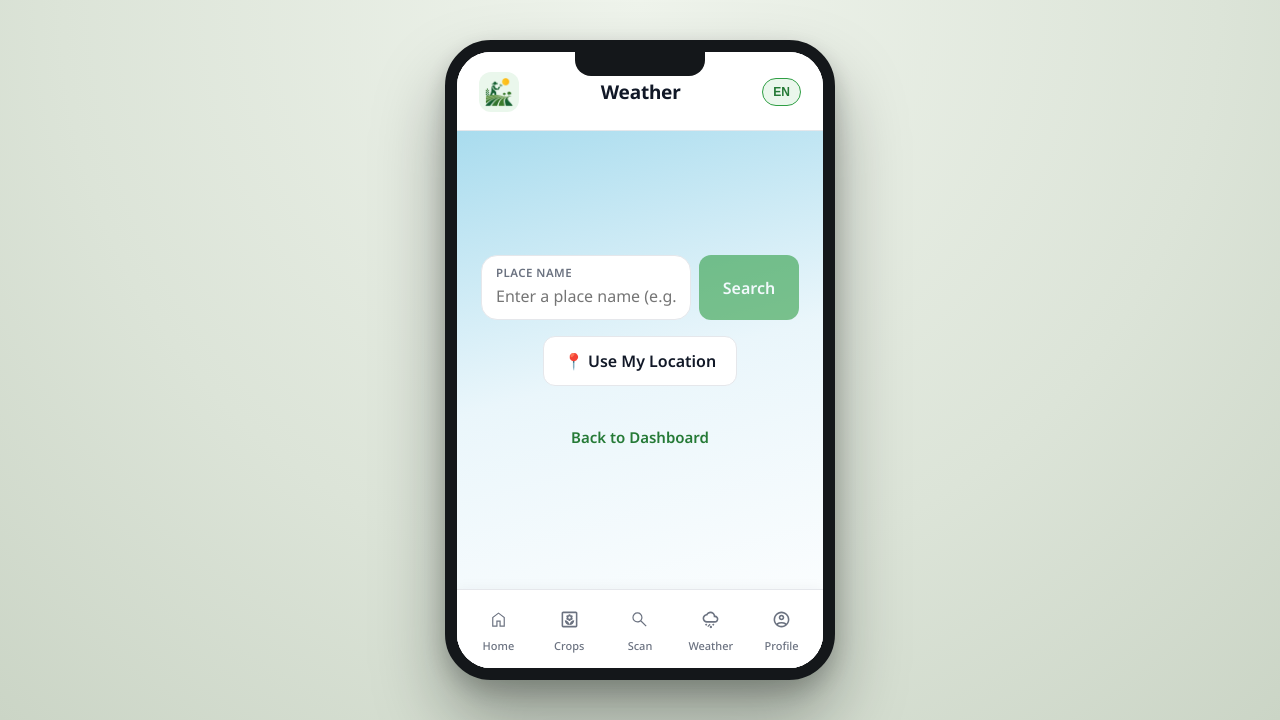
Test: WeatherPage › looks up weather for a manually typed place name
Type "Mangaluru" into the field with placeholder "Enter a place name (e.g. Mangaluru)".
click(586, 296); type("Mangaluru")  # box [496,283,676,309]
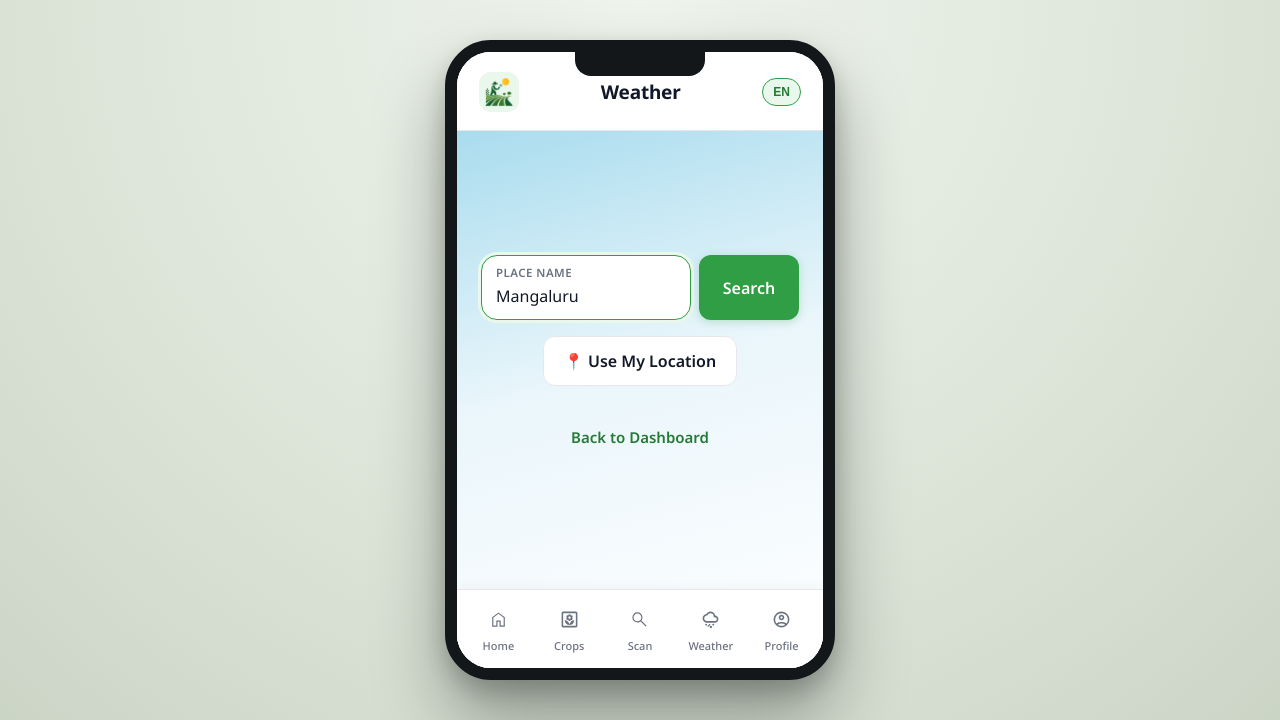
Click the button "Search".
click(749, 288)  # box [699,255,799,320]
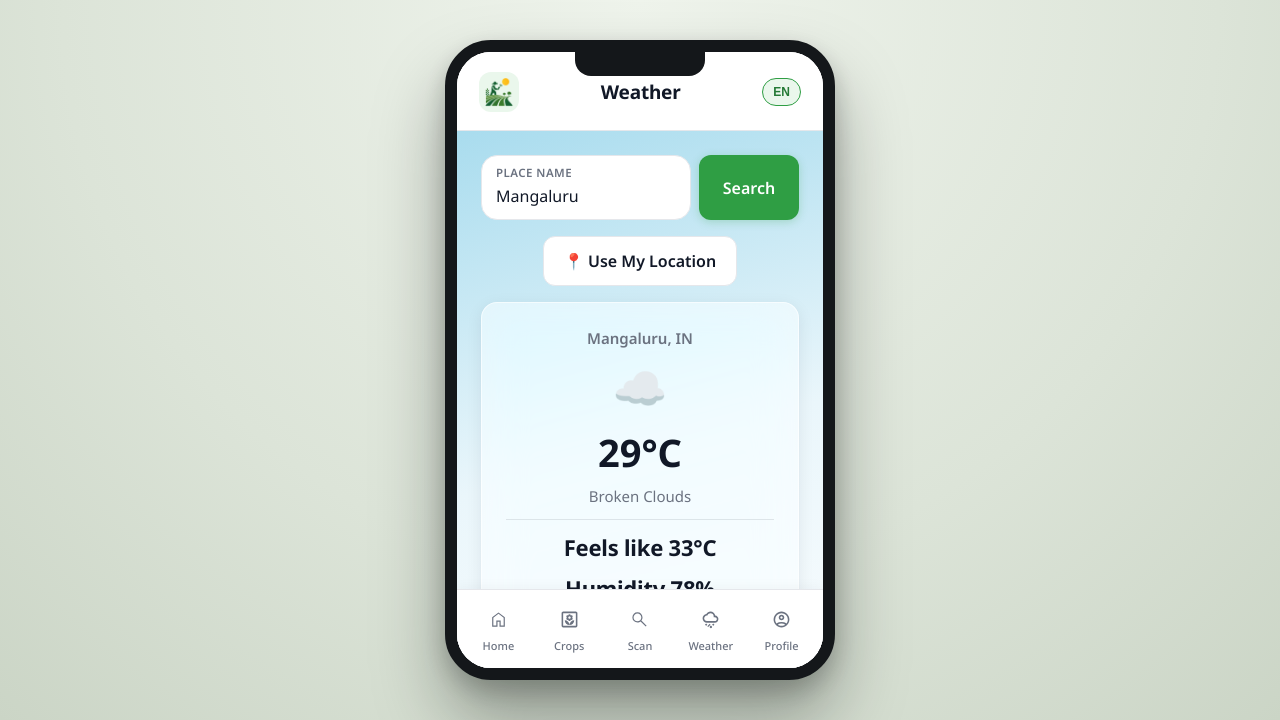
Expected: the text "Mangaluru, IN" is shown, [587,328,693,348]
Expected: the text "29°C" is shown, [598,426,682,478]
Expected: the text "broken clouds" is shown, [589,486,691,506]
